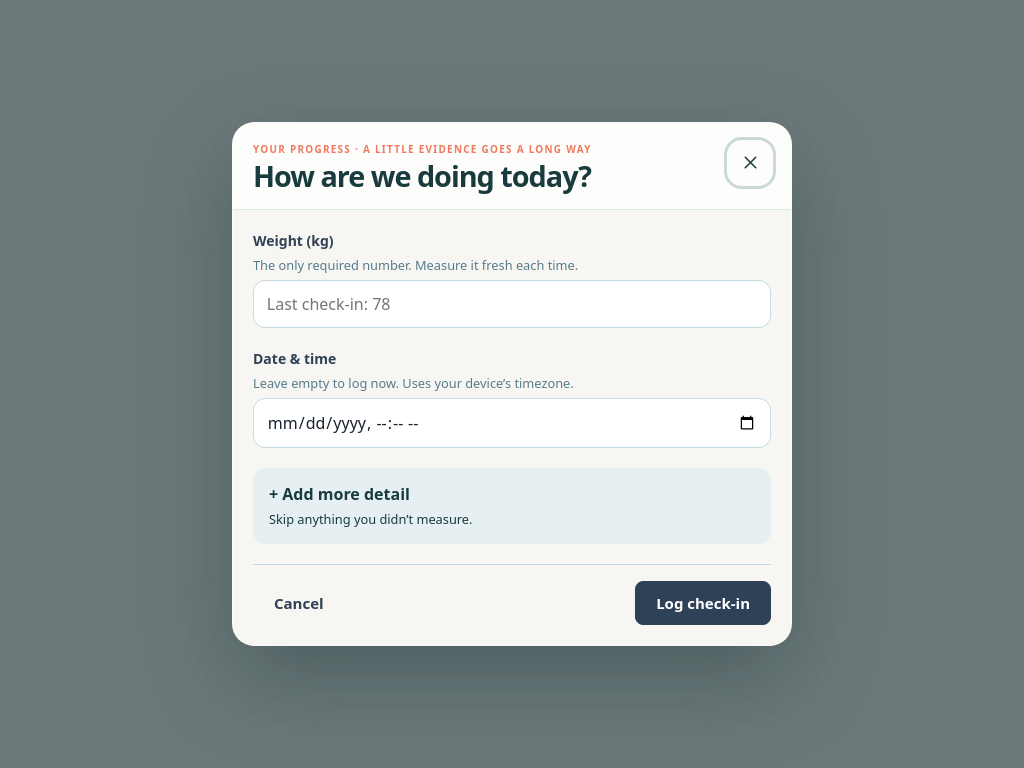
progress experience › logs weight alone, shows success, and invalidates cached summaries
The width and height of the screenshot is (1024, 768).
Step 1. Type "78" into the number field labelled "Weight (kg)" → (512, 304), box [253,280,771,328]
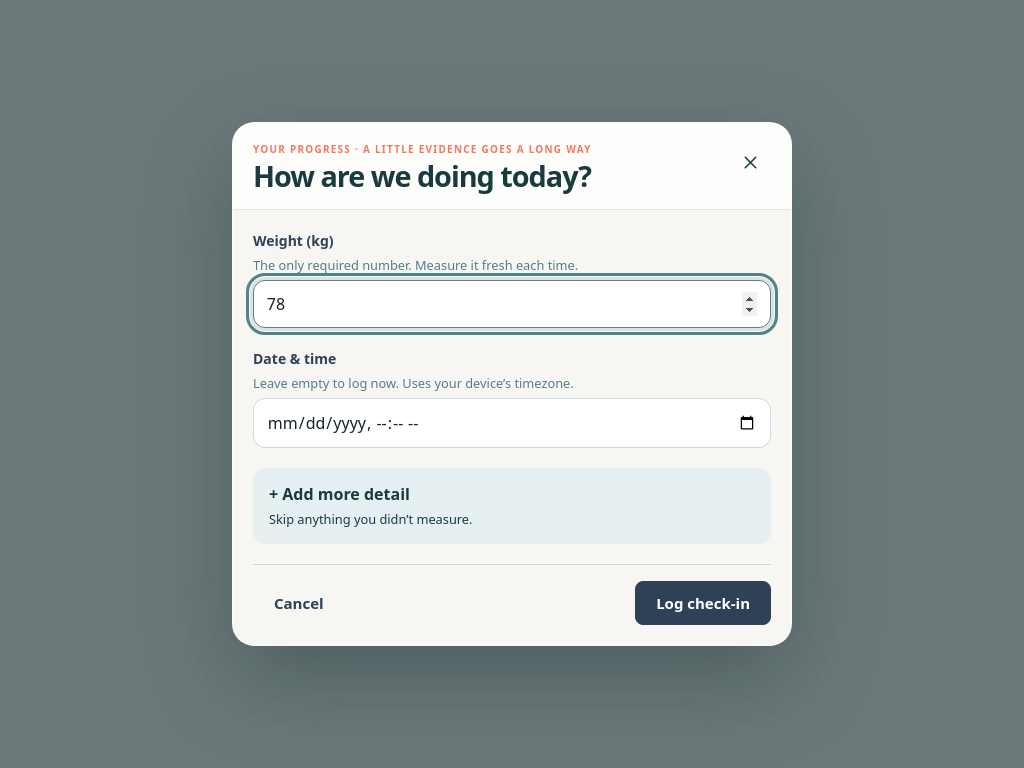
Step 2. Click the button "Log check-in" → (703, 603), box [635,581,771,625]
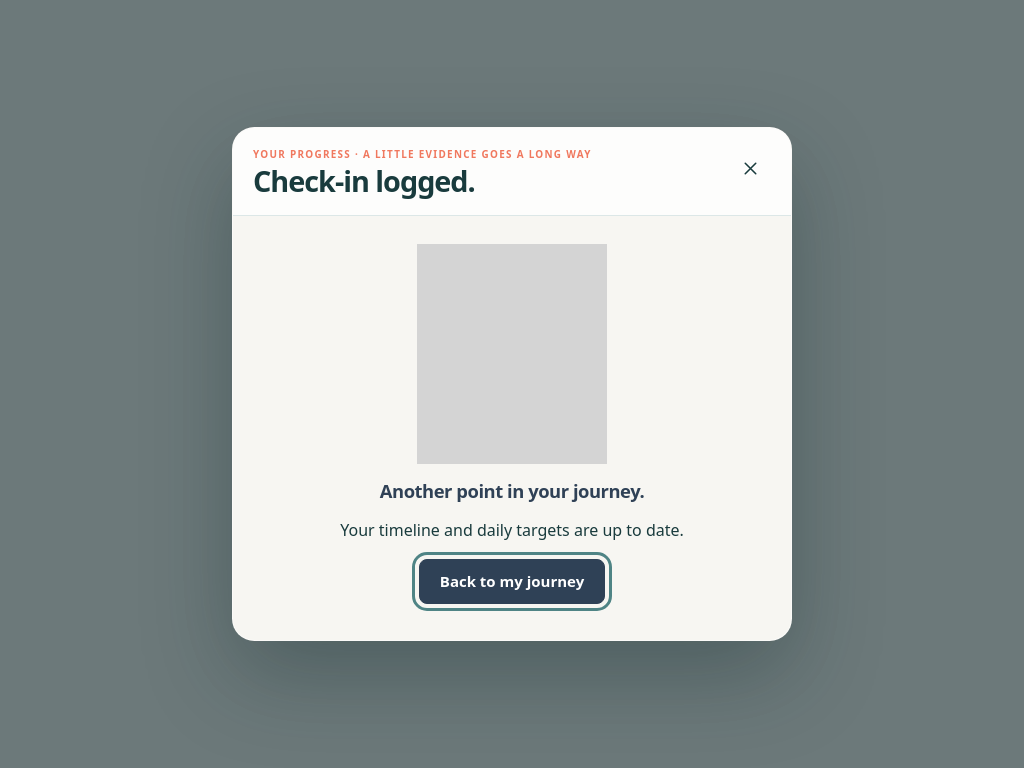
Result: the heading "Check-in logged." is shown at [253,161,475,200]
